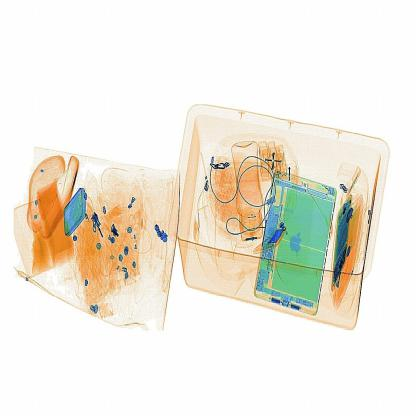pliers: (252, 220, 294, 262)
